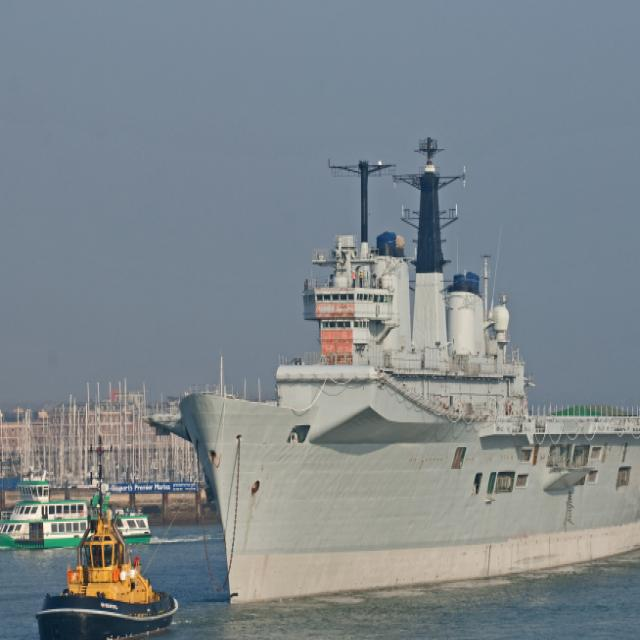Portanaves: (166, 121, 640, 615)
